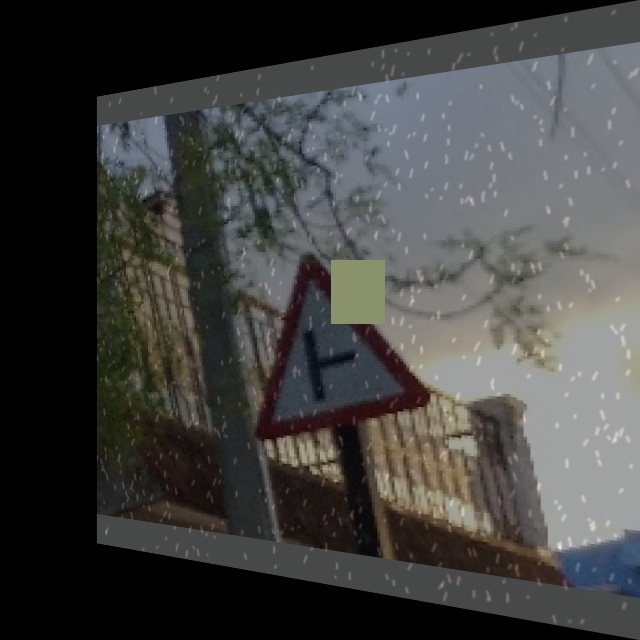Side_Road_Right: (244, 248, 417, 435)
